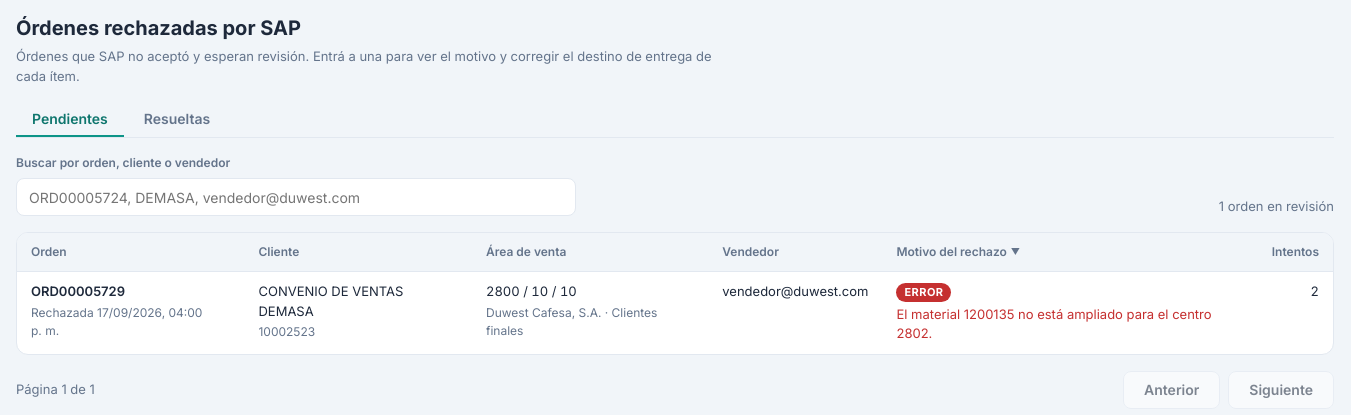
Scenario: RevisionSapPanel — pendientes y resueltas › una resuelta sin pedido se muestra como cerrada sin enviar
expect the text "ORD00005729" is shown: met, box [31, 283, 125, 299]
Click the tab "Resueltas" at (177, 120), box [128, 102, 226, 137]
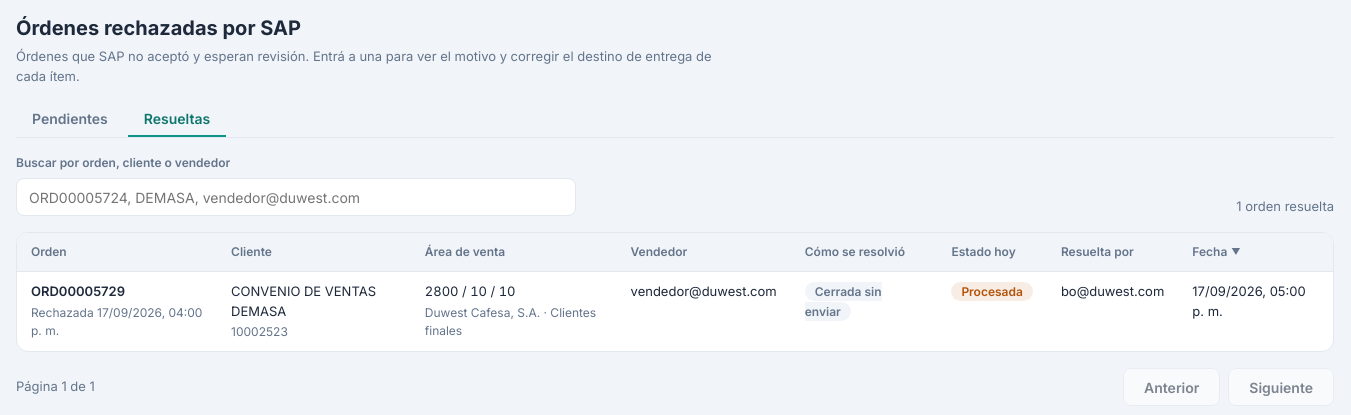
expect the text "Cerrada sin enviar" is shown: met, box [805, 282, 882, 320]
expect the text "Procesada" is shown: met, box [951, 282, 1033, 301]
